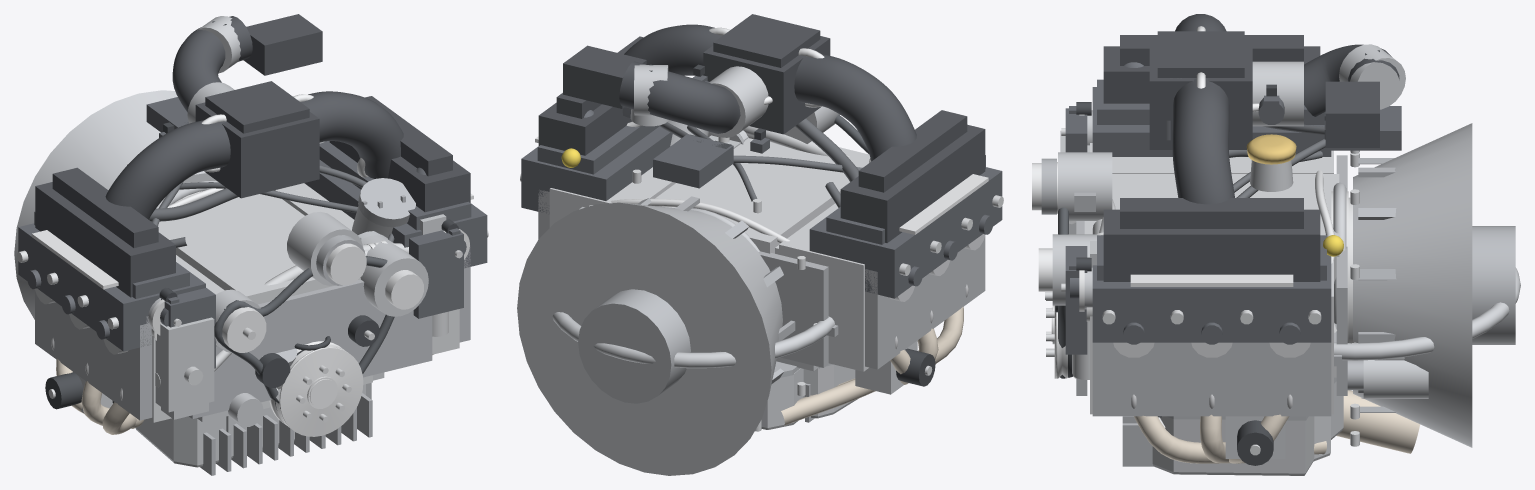
File: engine.glb
3 renders of one model, left to right at view 1: azimuth 30°, elevation 25°; view 2: azimuth 150°, elevation 25°; view 3: azimuth 270°, elevation 25°, orthographic. The views are drawn at different scales.
Visible parts, largest first — view 1: crankcaseWebFront, crankcaseMain, bellTaper, headDeck_L, plenumBox, intakeTube_L, plenumCap_L, camCoverBody_L, crankPulleyDisc, intakeTube_R, unitCarrier, airFilterHousingBody (+44 smaller); view 2: bellTaper, crankcaseMain, bellSnout, camCoverBody_L, headDeck_L, intakeTube_L, plenumCap_L, headCasting_L, camCoverBody_R, intakeSnorkel, crankcaseWebRear, plenumBox (+24 smaller); view 3: bellTaper, headDeck_R, camCoverBody_R, plenumCap_R, intakeTube_R, plenumCapCrown_R, oilPan, bellSnout, plenumBox, plenumBoxLid, airFilterHousingBody, crankcaseMain (+38 smaller).
Part boxes in pixels (x1,y1,x2,y2): crankcaseWebFront: (189,279,432,418); crankcaseMain: (158,194,372,408); bellTaper: (14,90,216,319); headDeck_L: (35,290,152,420); plenumBox: (195,102,319,198); intakeTube_L: (105,120,230,219); plenumCap_L: (35,182,175,297); camCoverBody_L: (18,223,205,351); crankPulleyDisc: (269,341,363,436); intakeTube_R: (301,91,403,178); unitCarrier: (155,317,214,412); airFilterHousingBody: (243,14,322,75); bellTaper: (517,202,782,475); crankcaseMain: (655,138,870,253); bellSnout: (578,289,690,403); camCoverBody_L: (809,167,1002,298); headDeck_L: (865,236,985,369); intakeTube_L: (794,54,916,161); plenumCap_L: (840,124,985,242); headCasting_L: (779,203,868,371); camCoverBody_R: (521,126,672,213); intakeSnorkel: (619,61,740,133); crankcaseWebRear: (579,207,828,367); plenumBox: (703,36,830,134); bellTaper: (1353,123,1472,447); headDeck_R: (1092,342,1331,416); camCoverBody_R: (1092,255,1331,342); plenumCap_R: (1103,209,1320,281); intakeTube_R: (1172,78,1234,204); plenumCapCrown_R: (1120,198,1303,228); oilPan: (1152,381,1343,475); bellSnout: (1472,226,1515,344); plenumBox: (1149,37,1252,149); plenumBoxLid: (1157,31,1244,77); airFilterHousingBody: (1325,81,1379,147); crankcaseMain: (1084,174,1339,377).
Size of the model in its own units: 4.54 by 4.28 by 4.51.
